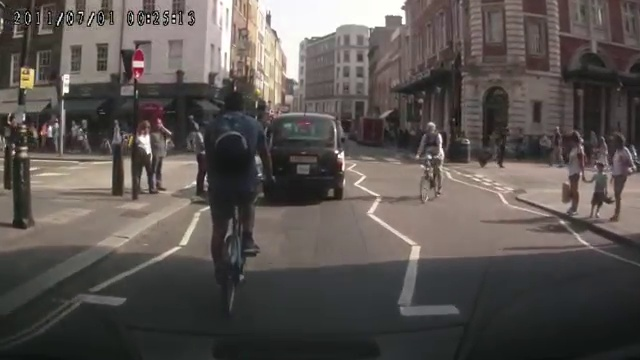cyclist_back: (200, 91, 264, 317)
cyclist_front: (414, 119, 448, 207)
